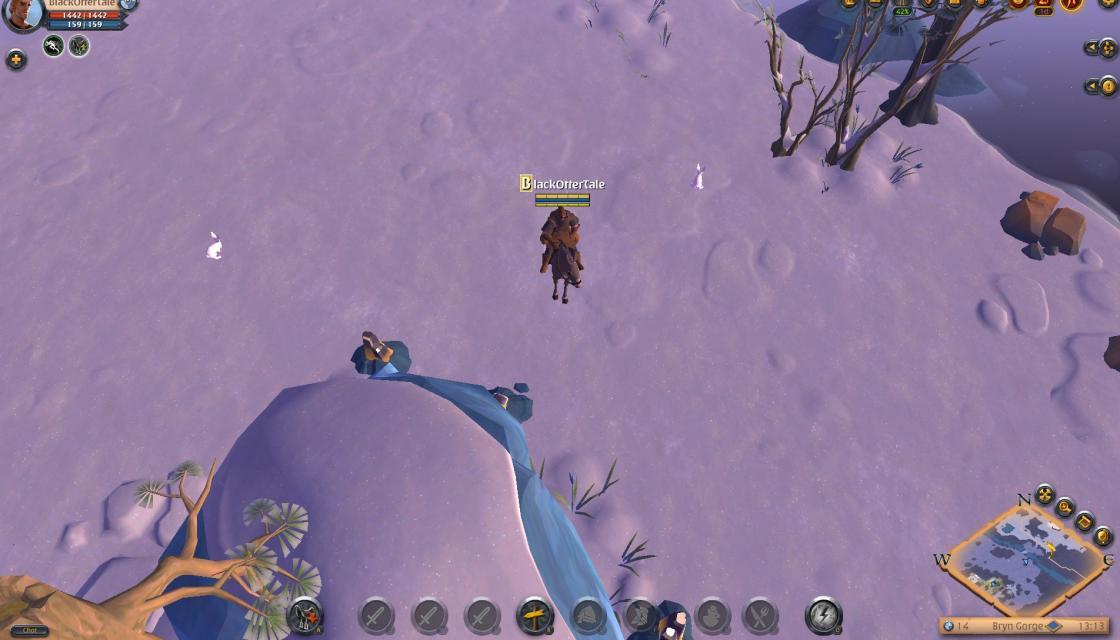copperore: (629, 590, 702, 640), (343, 325, 411, 378)
limestone: (998, 180, 1091, 262)
